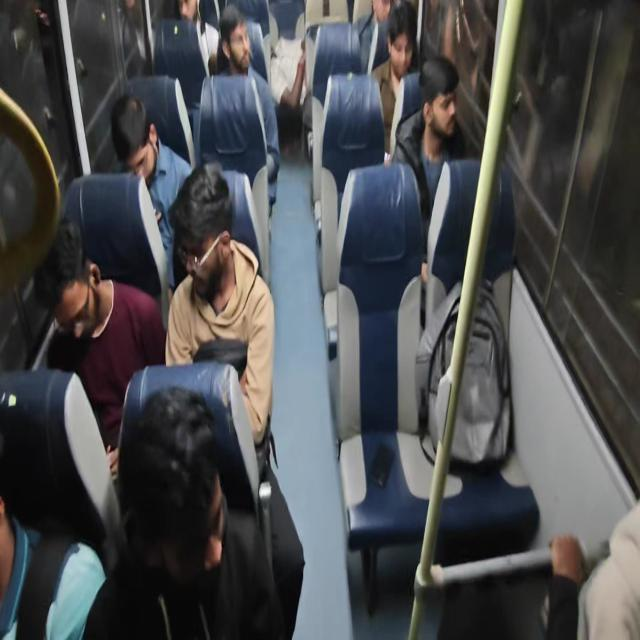person: (164, 162, 305, 637), (81, 384, 284, 639), (33, 215, 167, 471), (164, 160, 276, 450), (110, 92, 193, 293), (389, 54, 466, 260), (0, 496, 107, 639), (543, 498, 639, 639), (215, 4, 281, 207), (370, 1, 420, 160), (353, 0, 392, 74)
